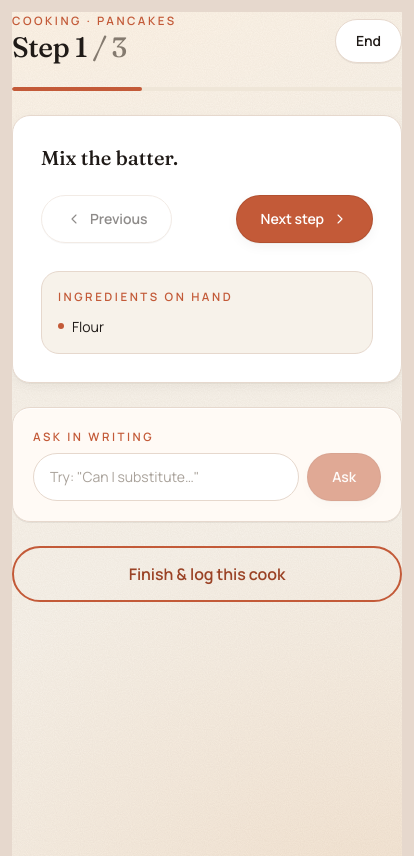
Test: CookRecipePage › disables Next on the last step
The image size is (414, 856).
Check: the text "Mix the batter." is shown, box top-left (41, 145), bottom-right (178, 170)
What coordinates should you click on to do the following:
click the button "Next step"
I would click on:
 (304, 219)
Its box is top-left (236, 195), bottom-right (373, 243).
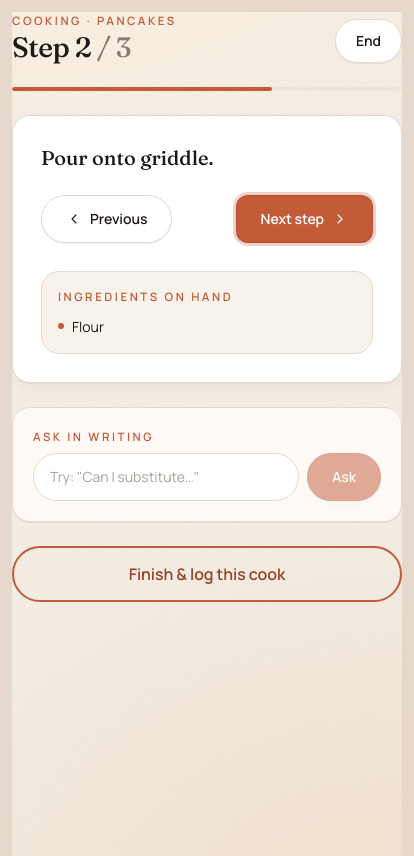
What coordinates should you click on to do the following:
click the button "Next step"
I would click on:
 (304, 219)
Its box is top-left (236, 195), bottom-right (373, 243).
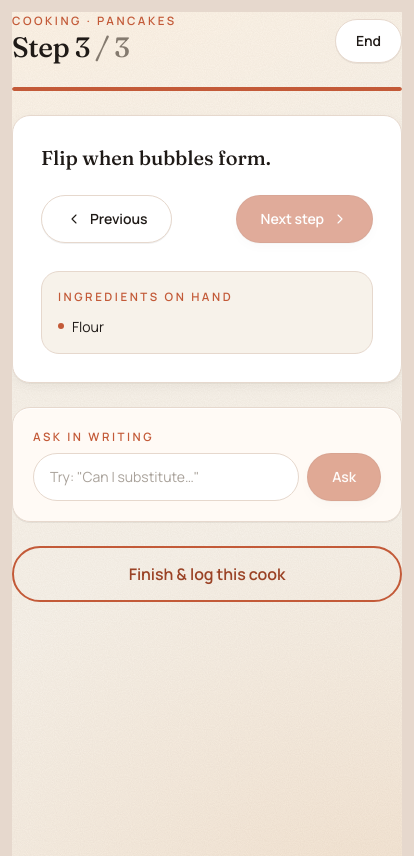
Check: the button "Next step" is disabled, box top-left (236, 195), bottom-right (373, 243)
